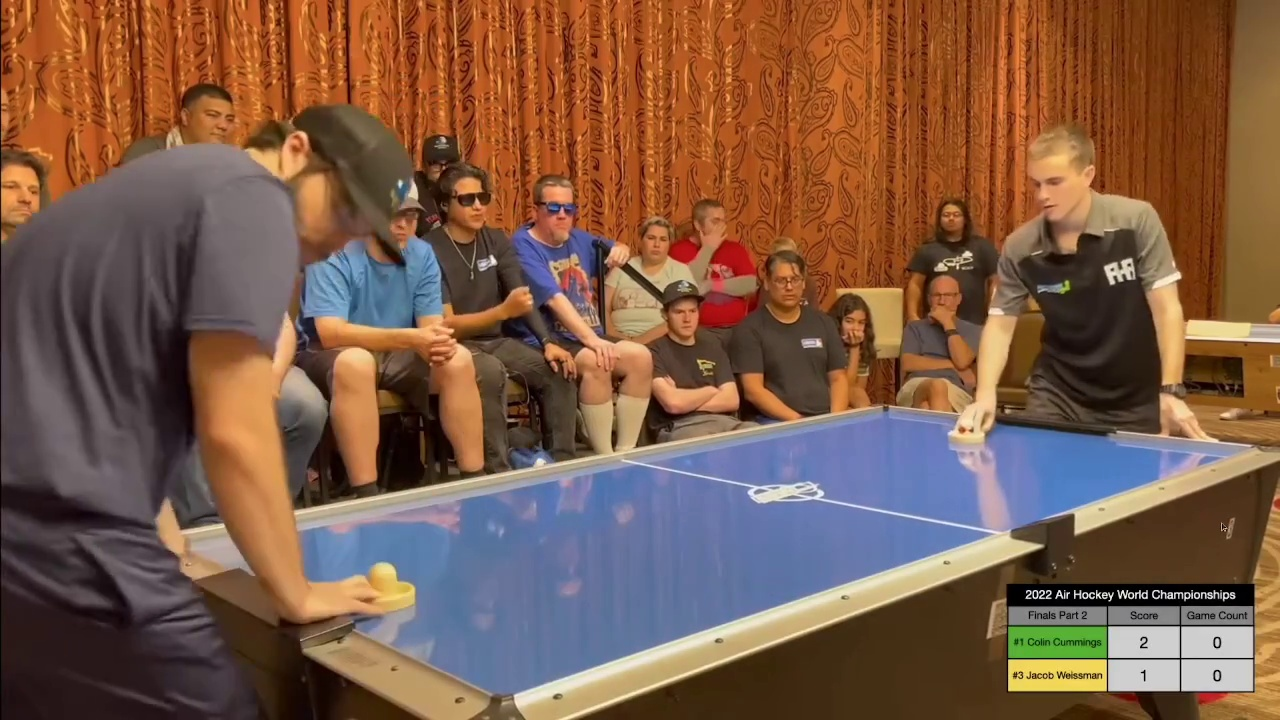player: (360, 562, 417, 614), (947, 418, 981, 445)
table: (159, 399, 1280, 706)
